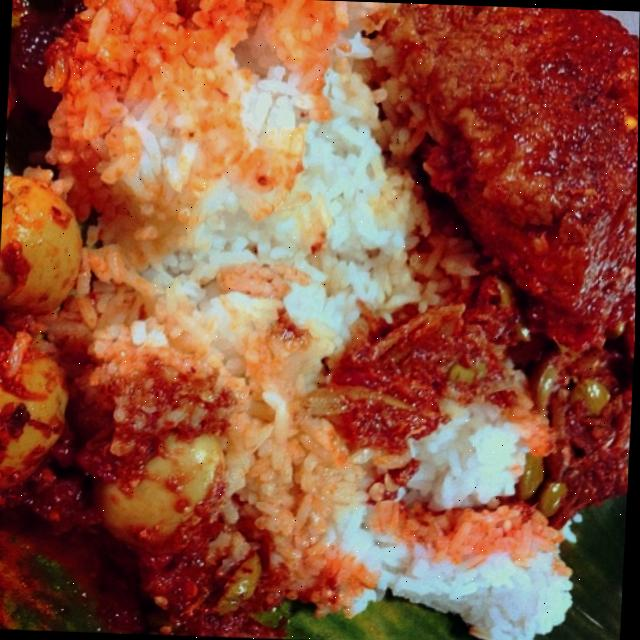米饭主食: (0, 8, 635, 638)
